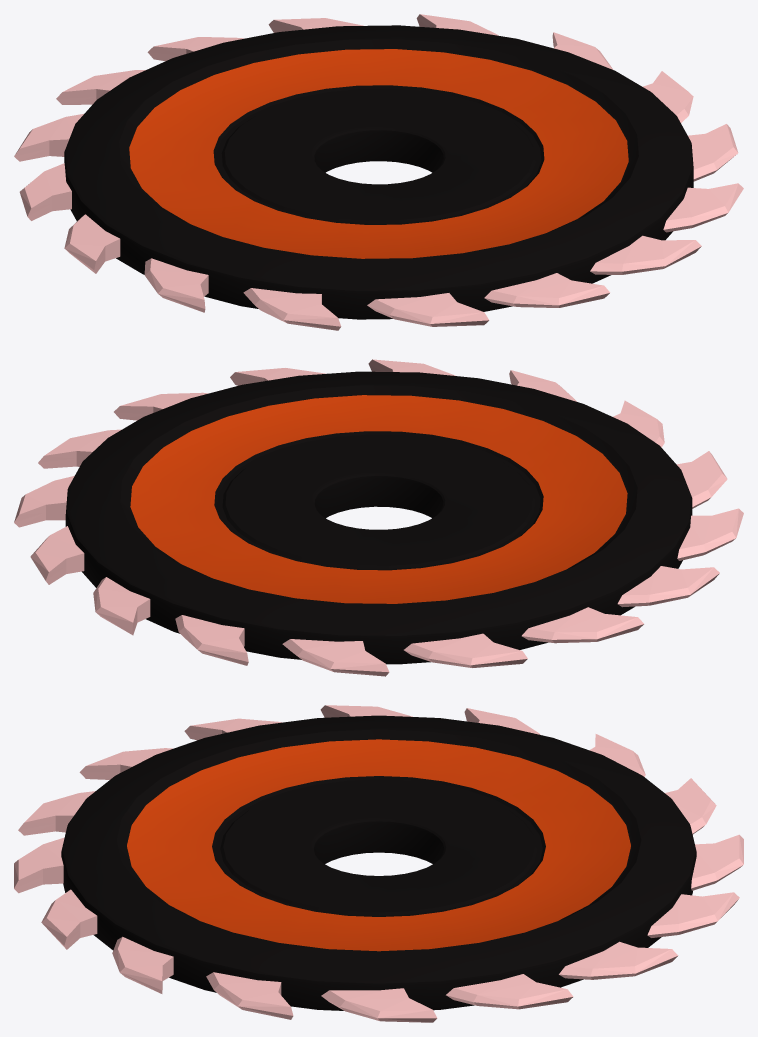
Rendered from saw02.FBX.
3 renders of one model, top to bottom at view 1: azimuth 30°, elevation 25°; view 2: azimuth 150°, elevation 25°; view 3: azimuth 270°, elevation 25°, orthographic.
Parts seen in each view (by area): view 1: Cylinder001; view 2: Cylinder001; view 3: Cylinder001.
Part boxes in pixels (bbox=[...]): Cylinder001: bbox=[14, 14, 743, 330]; Cylinder001: bbox=[14, 359, 743, 676]; Cylinder001: bbox=[14, 705, 743, 1022].
Size of the model in its own units: 50.96 by 3.64 by 50.96.
